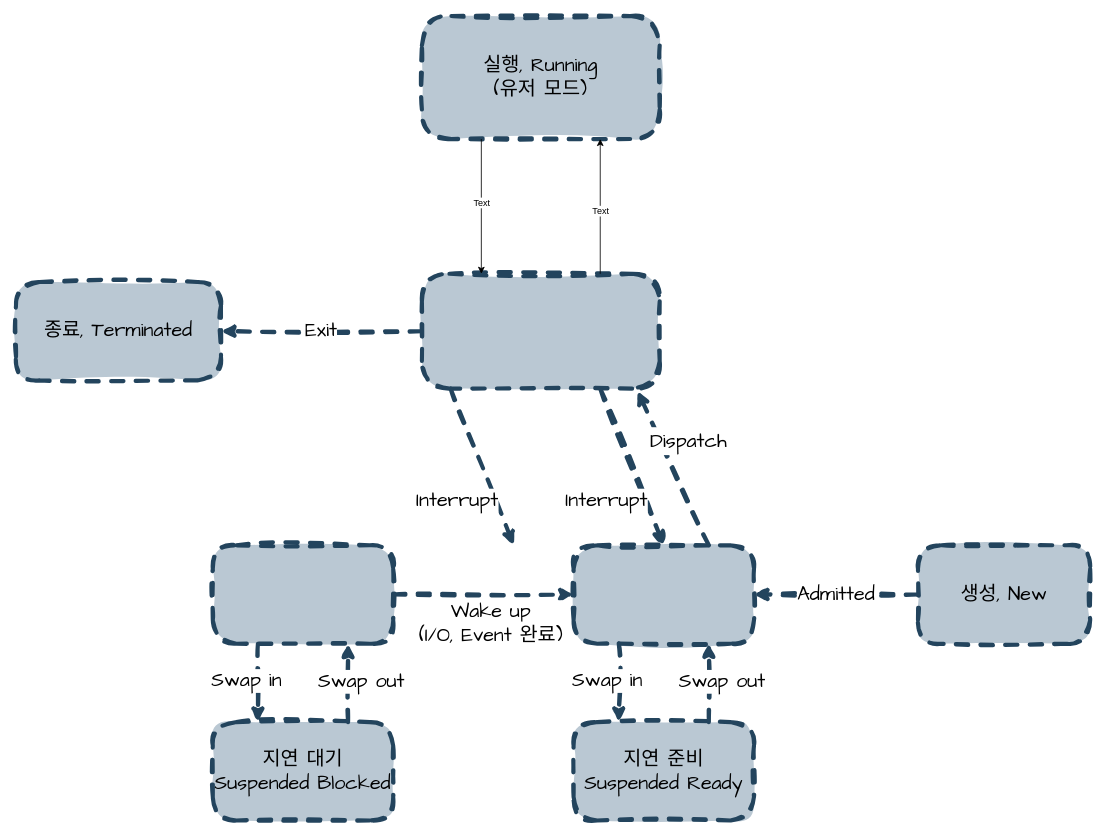
Some shapes in this 1106 by 837 pixel diagram are drawn without their labels. The centre of each missing label's shape, as x and y in pixels:
"대기, Blocked" goes at point 302,594.
"실행, Running (커널 모드)" goes at point 540,330.
"준비, Ready" goes at point 663,594.
